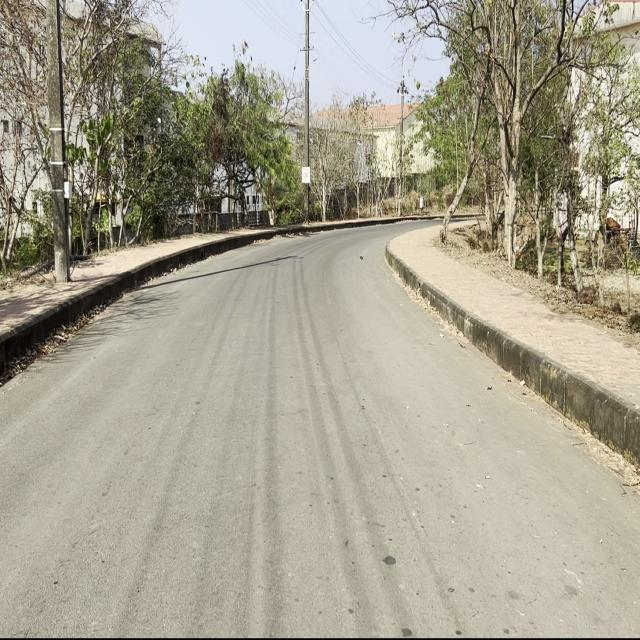Road: (1, 226, 638, 635)
